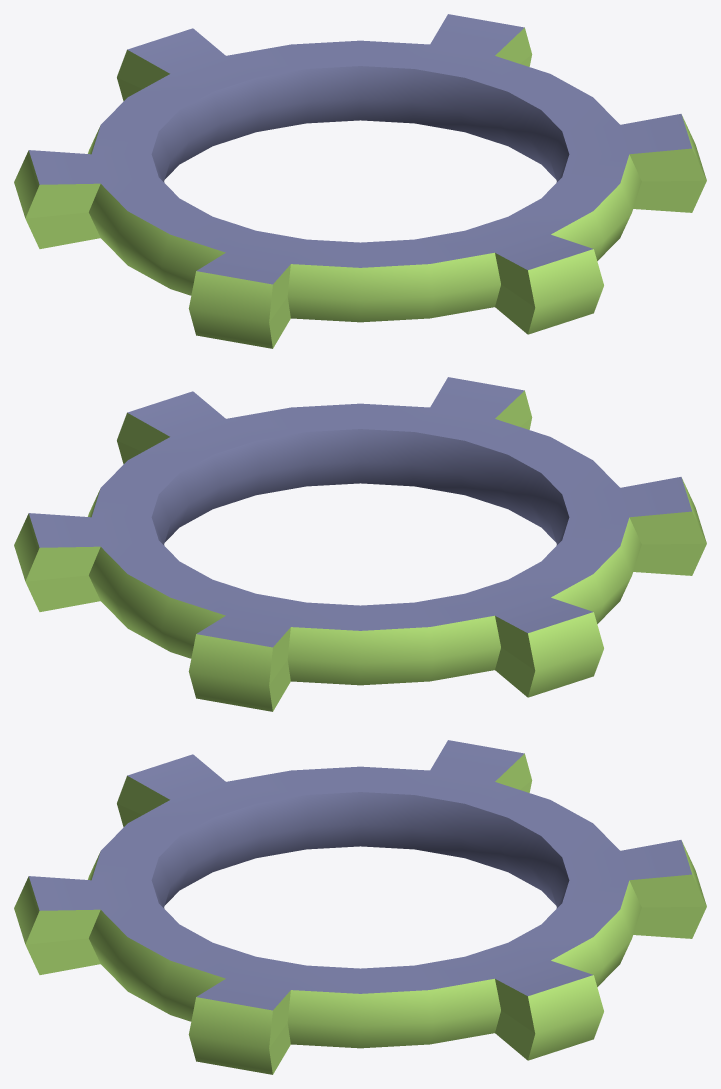
Rendered from rueda.fbx.
3 renders of one model, top to bottom at view 1: azimuth 30°, elevation 25°; view 2: azimuth 150°, elevation 25°; view 3: azimuth 270°, elevation 25°, orthographic.
Parts seen in each view (by area): view 1: Torus001; view 2: Torus001; view 3: Torus001.
Boxes of the visible parts, x1,y1,x2,y2 form: Torus001: (14, 14, 706, 348); Torus001: (14, 377, 706, 711); Torus001: (14, 740, 706, 1074).
Bounding box in the file's own units: 126 × 13.39 × 131.
